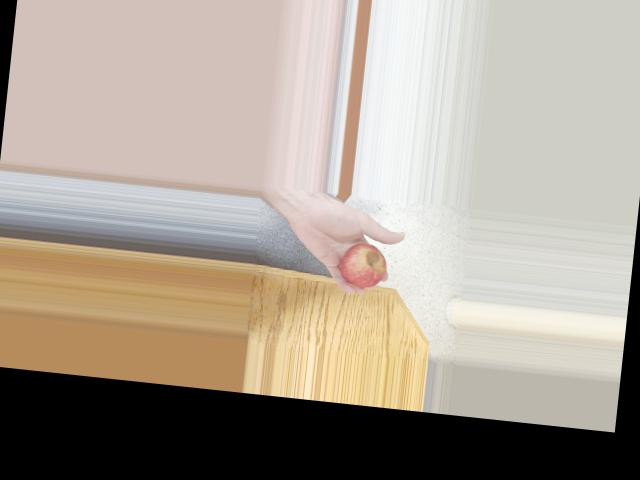apple: (333, 236, 390, 289)
